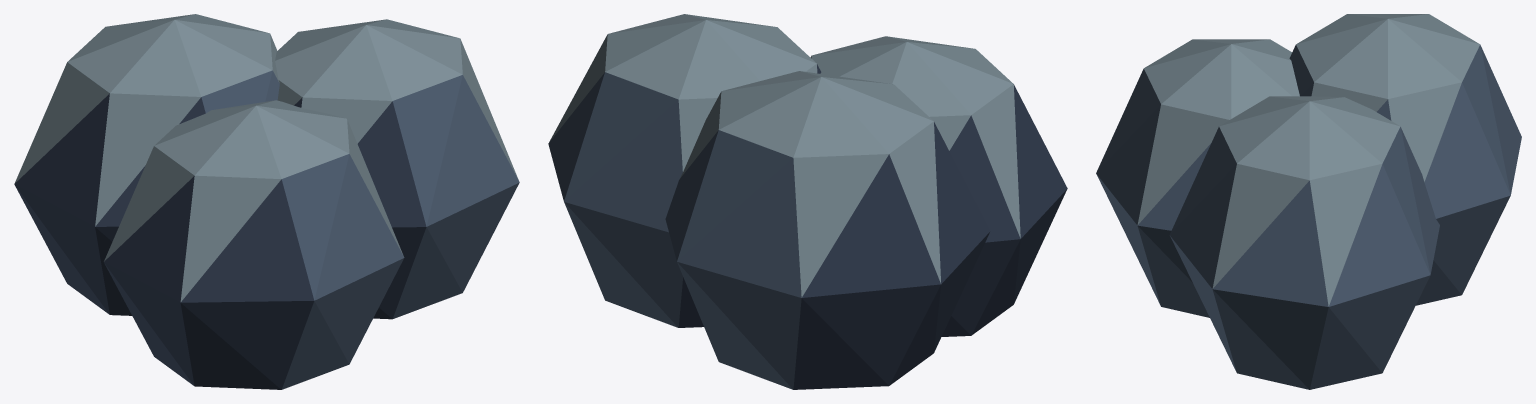
Rendered from TW_SHRUB_ROUND_A_LOD0.glb.
3 views of the same model, side by side, from view 1: azimuth 30°, elevation 25°; view 2: azimuth 150°, elevation 25°; view 3: azimuth 270°, elevation 25° (orthographic). The views are drawn at different scales.
Visible parts, largest first — view 1: TW_SHRUB_ROUND_A_LOD0; view 2: TW_SHRUB_ROUND_A_LOD0; view 3: TW_SHRUB_ROUND_A_LOD0.
Boxes of the visible parts, box(x1,y1,x2,y2) form: TW_SHRUB_ROUND_A_LOD0: box(14, 14, 519, 389); TW_SHRUB_ROUND_A_LOD0: box(548, 14, 1067, 389); TW_SHRUB_ROUND_A_LOD0: box(1096, 14, 1521, 389).
Bounding box in the file's own units: 0.95 × 0.65 × 0.85.
Materials: 1 (1 with a texture image).
